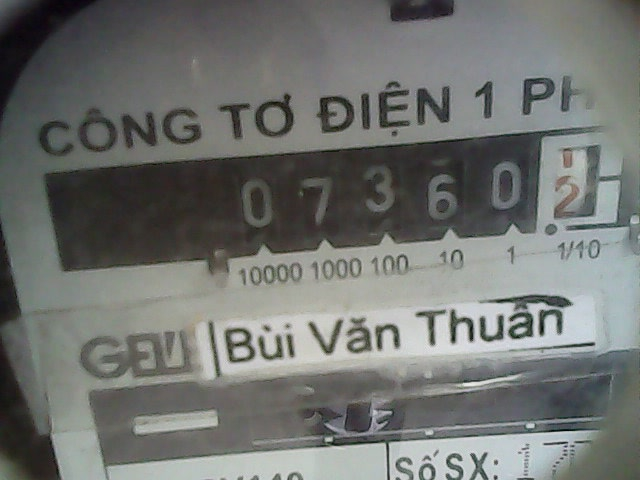phy_plate: (213, 119, 628, 260)
